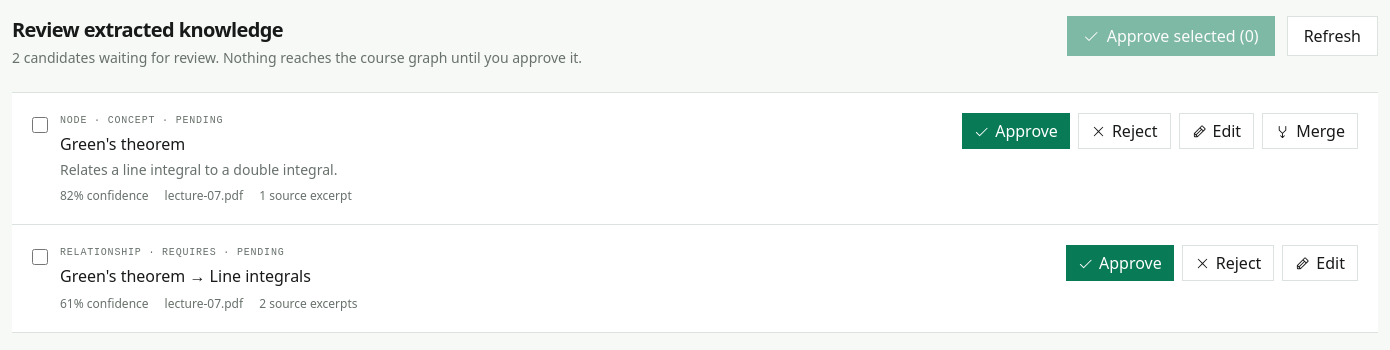
Test: GraphReview › approves a candidate, reports success, and refreshes the queue
Step 1. Click the button "Approve" in the row of "CONCEPT" → coordinates (1016, 131), box [962,113,1070,149]
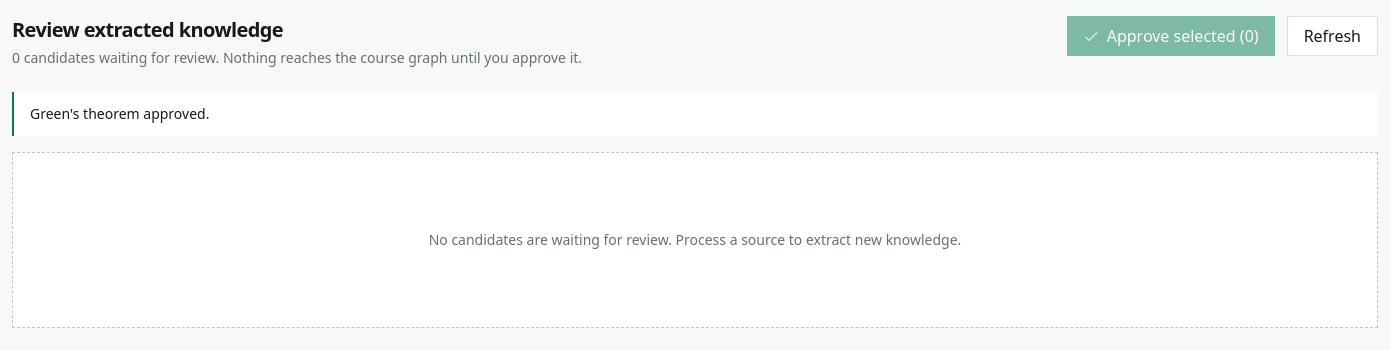
Check: the message reads "Green's theorem approved.", box [30,104,209,123]
Check: the text "No candidates are waiting for review" is shown, box [429,230,961,249]
